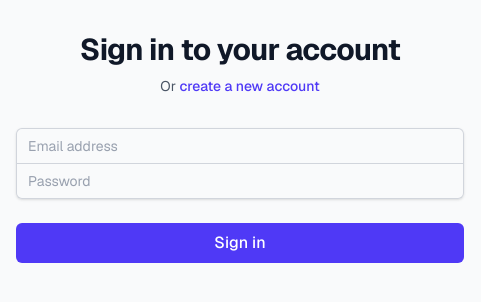
Test: LoginPage › displays error message on failed login
In the field with placeholder "Email address": (240, 146) [16,128,464,164], type "test@example.com"
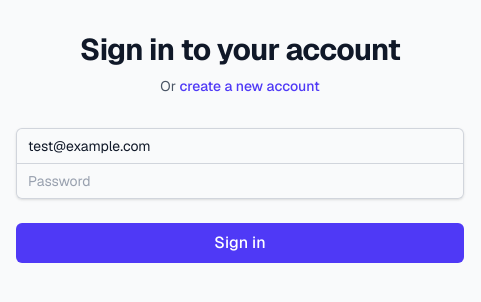
In the password field with placeholder "Password": (240, 180) [16,162,464,198], type "wrongpassword"
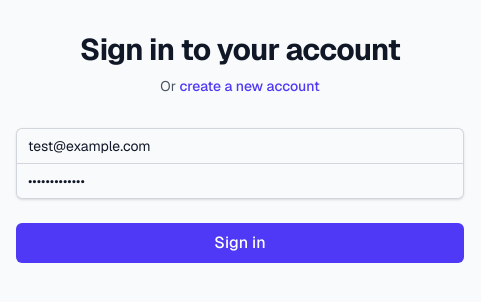
Click the button "Sign in": click(240, 242) [16,222,464,262]
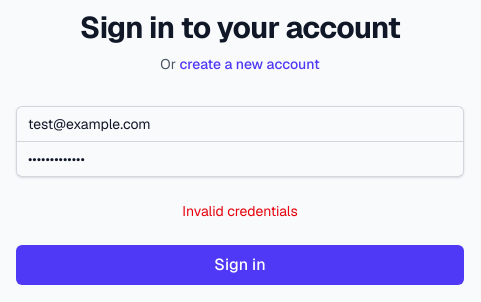
expect the text "Invalid credentials" is shown: met, box [182,202,298,220]
